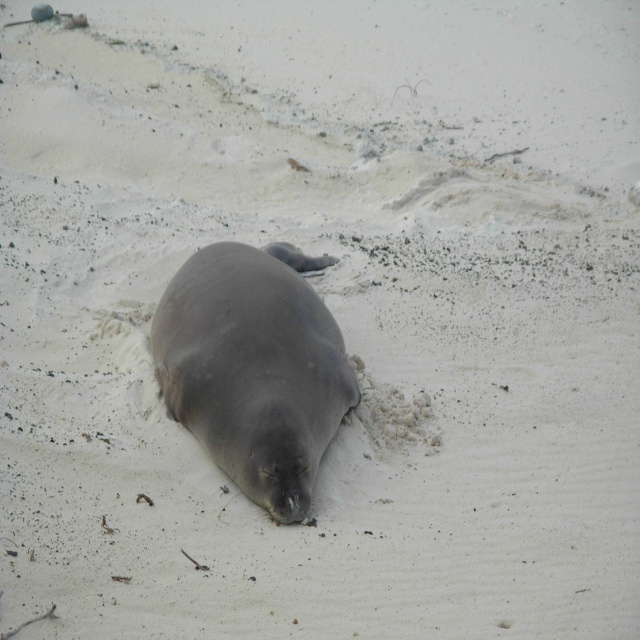Sea lion: (151, 239, 360, 518)
